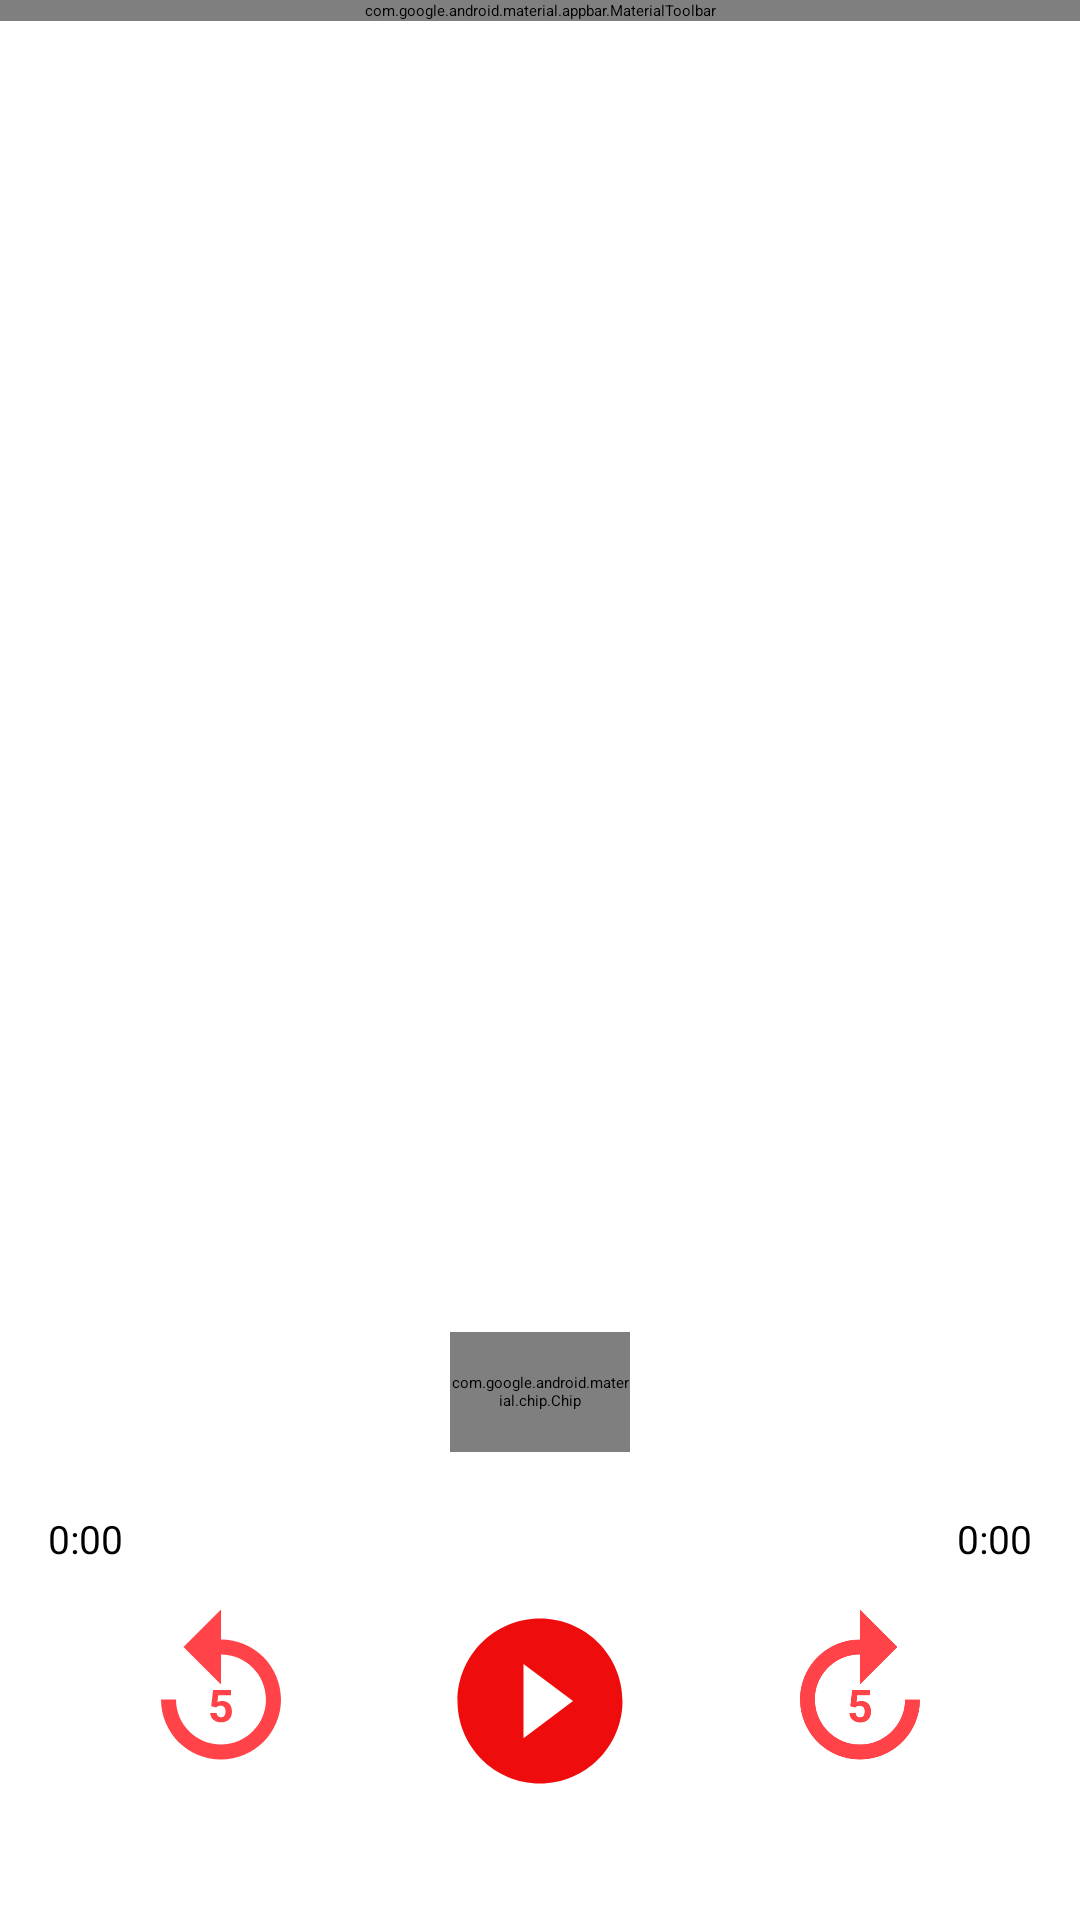

Icons on this 1080×1920 Android screen, each with the point to tap as point (x, y):
forward: point (860, 1685)
playaudio: point (540, 1701)
replayback: point (221, 1685)
